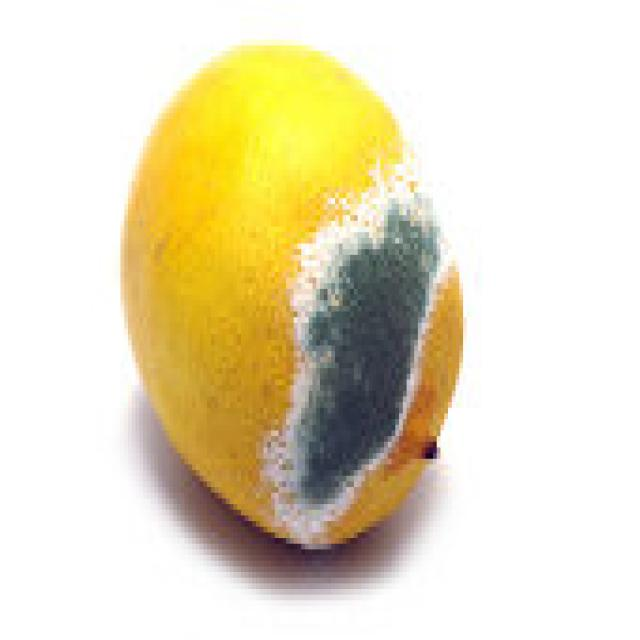Rotten: (121, 40, 464, 549)
